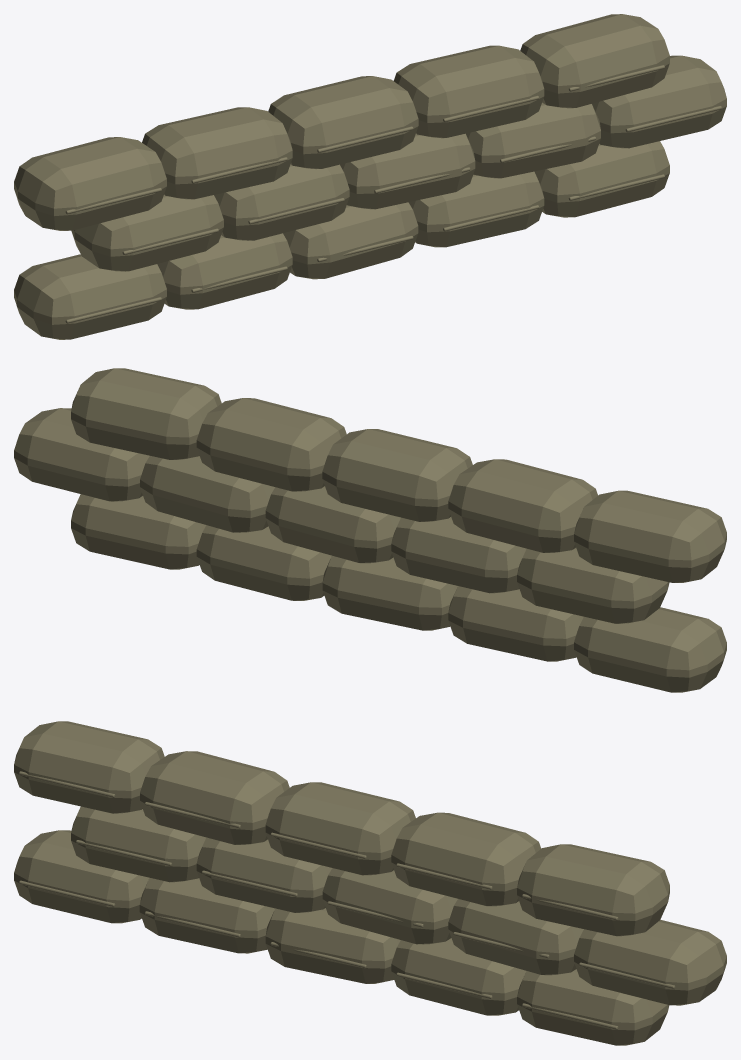
File: Sandbags.fbx
3 views of the same model, one above another, from view 1: azimuth 30°, elevation 25°; view 2: azimuth 150°, elevation 25°; view 3: azimuth 330°, elevation 25° (orthographic).
Parts seen in each view (by area): view 1: Sandbags; view 2: Sandbags; view 3: Sandbags.
Part boxes in pixels (x1=…): Sandbags: x1=14, y1=14, x2=726, y2=339; Sandbags: x1=14, y1=368, x2=726, y2=692; Sandbags: x1=14, y1=721, x2=726, y2=1045.
Size of the model in its own units: 291 by 36.11 by 69.
